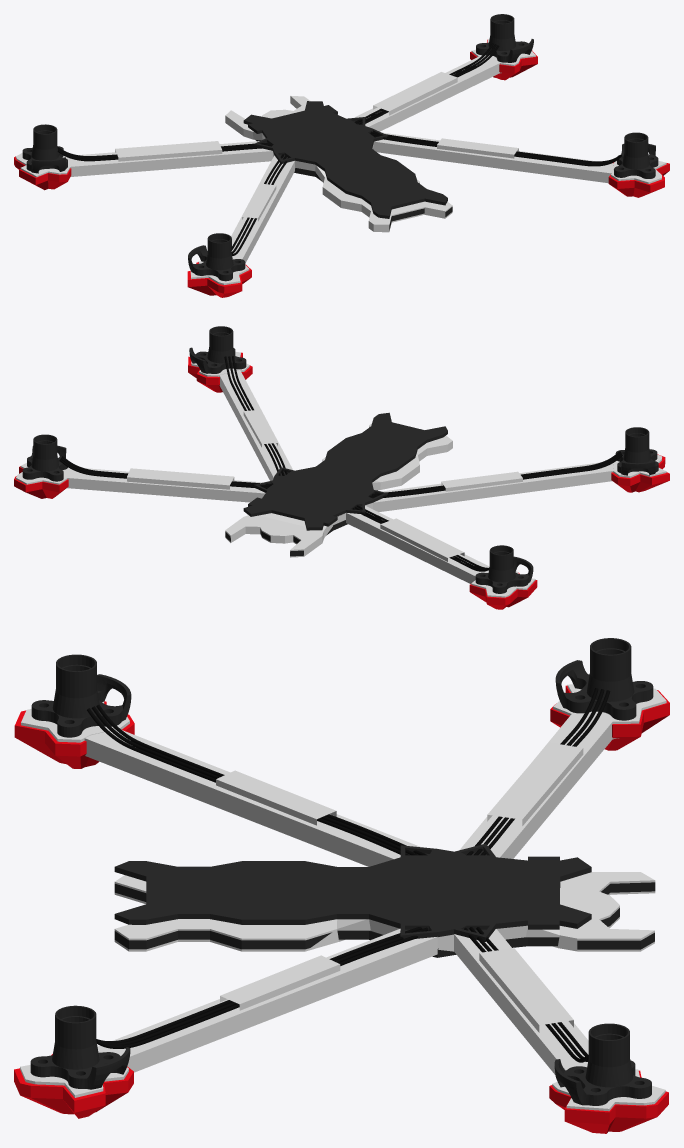
Rendered from Frame1.fbx.
3 renders of one model, top to bottom at view 1: azimuth 30°, elevation 25°; view 2: azimuth 150°, elevation 25°; view 3: azimuth 270°, elevation 25°, orthographic. The views are drawn at different scales.
Parts seen in each view (by area): view 1: Plane.004; view 2: Plane.004; view 3: Plane.004.
Boxes of the visible parts, bbox=[...] form: Plane.004: bbox=[14, 14, 669, 297]; Plane.004: bbox=[14, 326, 669, 609]; Plane.004: bbox=[14, 638, 669, 1133].
Bounding box in the file's own units: 20.25 × 2.16 × 13.11.
